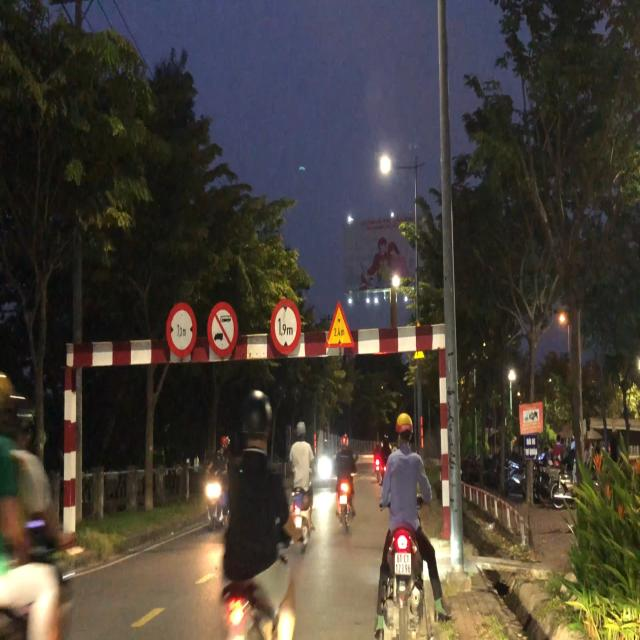Bien bao cam xe oto khach va xe oto tai: (208, 297, 240, 363)
Bien bao chieu cao tinh khong thuc te: (322, 296, 357, 354)
Bien bao han che chieu cao: (268, 293, 304, 356)
